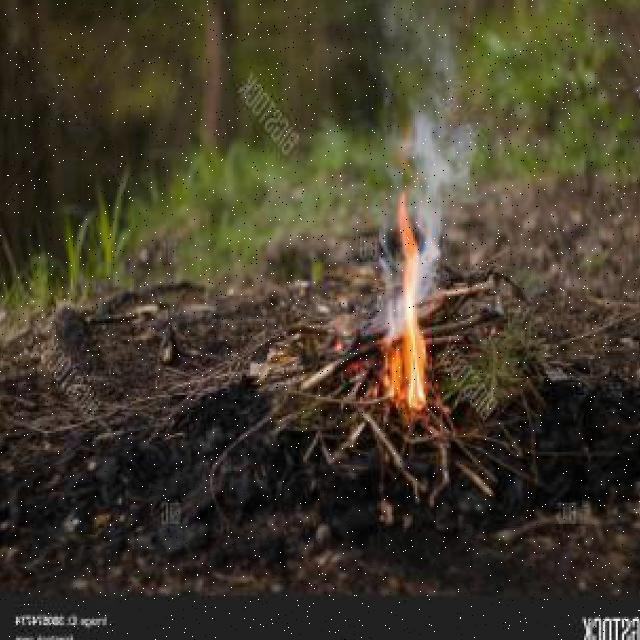fire: (377, 192, 434, 410)
smoke: (373, 15, 480, 342)
